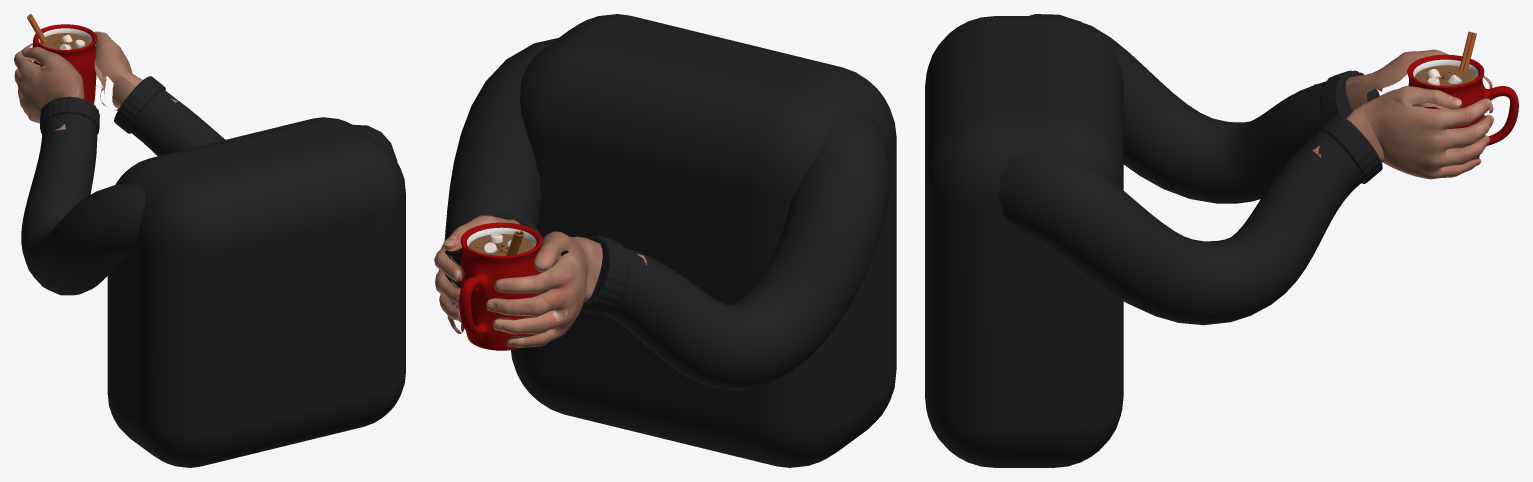
File: hands.glb
The picture shows the model from 3 angles, left to right: view 1: azimuth 30°, elevation 25°; view 2: azimuth 150°, elevation 25°; view 3: azimuth 270°, elevation 25°; orthographic projection. The views are drawn at different scales.
Visible parts, largest first — view 1: H_Chest, H_SleeveL, H_SleeveR, H_HandLMesh, H_CocoaMug, H_HandRMesh, H_CuffR, H_CuffL; view 2: H_Chest, H_SleeveL, H_SleeveR, H_HandLMesh, H_CocoaMug, H_HandRMesh, H_CuffL; view 3: H_Chest, H_SleeveR, H_SleeveL, H_HandRMesh, H_CocoaMug, H_HandLMesh, H_CuffR, H_CuffL.
Part boxes in pixels (bbox=[...]): H_Chest: bbox=[107, 117, 405, 467]; H_SleeveL: bbox=[21, 113, 145, 295]; H_SleeveR: bbox=[130, 89, 397, 161]; H_HandLMesh: bbox=[14, 43, 84, 131]; H_CocoaMug: bbox=[27, 14, 96, 104]; H_HandRMesh: bbox=[94, 31, 178, 110]; H_CuffR: bbox=[114, 76, 165, 133]; H_CuffL: bbox=[40, 96, 99, 134]; H_Chest: bbox=[511, 14, 896, 467]; H_SleeveL: bbox=[602, 108, 890, 390]; H_SleeveR: bbox=[444, 38, 558, 322]; H_HandLMesh: bbox=[486, 231, 646, 347]; H_CocoaMug: bbox=[459, 222, 542, 350]; H_HandRMesh: bbox=[434, 215, 520, 333]; H_CuffL: bbox=[580, 235, 629, 314]; H_Chest: bbox=[925, 16, 1123, 467]; H_SleeveR: bbox=[998, 131, 1362, 325]; H_SleeveL: bbox=[1029, 14, 1324, 203]; H_HandRMesh: bbox=[1312, 86, 1493, 179]; H_CocoaMug: bbox=[1407, 31, 1518, 170]; H_HandLMesh: bbox=[1313, 49, 1493, 115]; H_CuffR: bbox=[1318, 114, 1382, 183]; H_CuffL: bbox=[1319, 70, 1379, 123].
Bounding box in the file's own units: 0.5362 × 0.4775 × 0.7184.
Materials: 8 (1 with a texture image).
